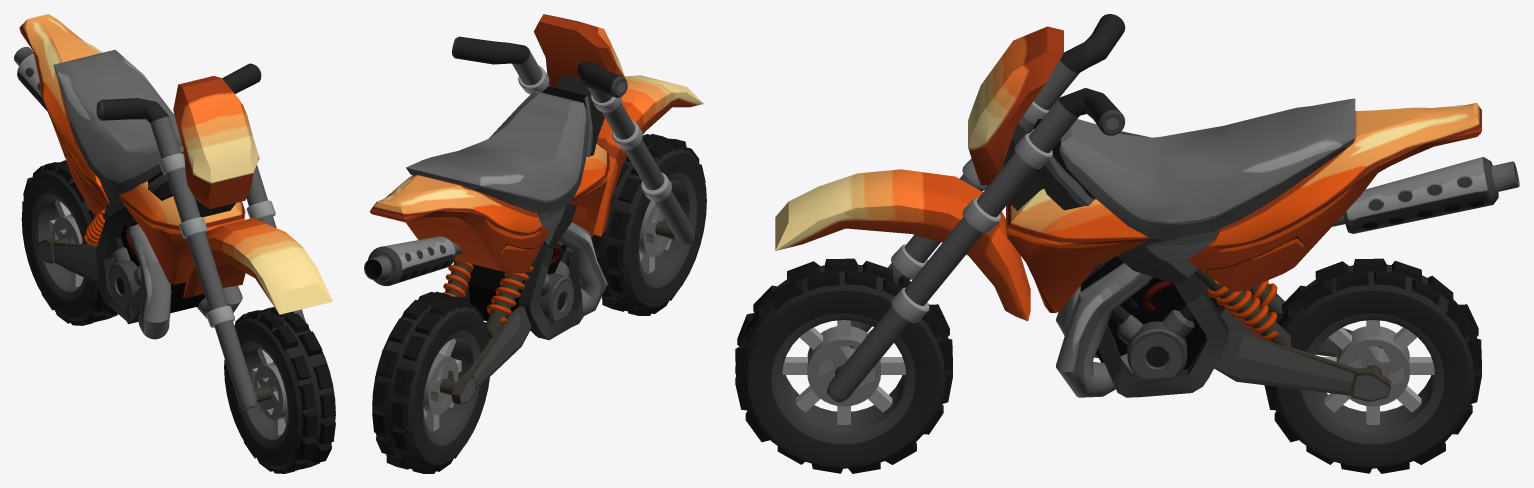
The model's file is hcr2_motocross.glb.
3 renders of one model, left to right at view 1: azimuth 30°, elevation 25°; view 2: azimuth 150°, elevation 25°; view 3: azimuth 270°, elevation 25°, orthographic. The views are drawn at different scales.
Visible parts, largest first — view 1: HCR2_Mt_Steer_0, HCR2_Mt_Body_3, HCR2_Mt_Front_Wheel_1, HCR2_Mt_Rear_Wheel_2, HCR2_Mt_Engine_4, HCR2_Mt_Susp_6, HCR2_Mt_Exhaust_7, HCR2_Mt_Springs_5; view 2: HCR2_Mt_Body_3, HCR2_Mt_Steer_0, HCR2_Mt_Rear_Wheel_2, HCR2_Mt_Front_Wheel_1, HCR2_Mt_Engine_4, HCR2_Mt_Exhaust_7, HCR2_Mt_Susp_6, HCR2_Mt_Springs_5; view 3: HCR2_Mt_Body_3, HCR2_Mt_Steer_0, HCR2_Mt_Front_Wheel_1, HCR2_Mt_Rear_Wheel_2, HCR2_Mt_Engine_4, HCR2_Mt_Exhaust_7, HCR2_Mt_Susp_6, HCR2_Mt_Springs_5.
Part boxes in pixels (x1=…): HCR2_Mt_Steer_0: x1=96, y1=63, x2=332, y2=409; HCR2_Mt_Body_3: x1=19, y1=14, x2=245, y2=284; HCR2_Mt_Front_Wheel_1: x1=224, y1=307, x2=335, y2=473; HCR2_Mt_Rear_Wheel_2: x1=21, y1=160, x2=117, y2=325; HCR2_Mt_Engine_4: x1=96, y1=199, x2=242, y2=339; HCR2_Mt_Susp_6: x1=38, y1=237, x2=99, y2=284; HCR2_Mt_Exhaust_7: x1=14, y1=46, x2=47, y2=111; HCR2_Mt_Springs_5: x1=82, y1=209, x2=108, y2=245; HCR2_Mt_Body_3: x1=370, y1=86, x2=610, y2=273; HCR2_Mt_Steer_0: x1=452, y1=14, x2=703, y2=244; HCR2_Mt_Rear_Wheel_2: x1=372, y1=291, x2=489, y2=473; HCR2_Mt_Front_Wheel_1: x1=591, y1=134, x2=706, y2=315; HCR2_Mt_Engine_4: x1=464, y1=74, x2=607, y2=340; HCR2_Mt_Exhaust_7: x1=364, y1=236, x2=462, y2=285; HCR2_Mt_Susp_6: x1=440, y1=306, x2=531, y2=404; HCR2_Mt_Springs_5: x1=442, y1=258, x2=535, y2=340; HCR2_Mt_Body_3: x1=1006, y1=98, x2=1481, y2=313; HCR2_Mt_Steer_0: x1=775, y1=14, x2=1125, y2=402; HCR2_Mt_Front_Wheel_1: x1=735, y1=258, x2=952, y2=473; HCR2_Mt_Rear_Wheel_2: x1=1264, y1=258, x2=1481, y2=473; HCR2_Mt_Engine_4: x1=1003, y1=123, x2=1228, y2=397; HCR2_Mt_Exhaust_7: x1=1332, y1=157, x2=1519, y2=233; HCR2_Mt_Susp_6: x1=1214, y1=309, x2=1391, y2=401; HCR2_Mt_Springs_5: x1=1194, y1=268, x2=1291, y2=346.
Size of the model in its own units: 0.9532 by 1.84 by 3.08.
Materials: 2 (2 with a texture image).
